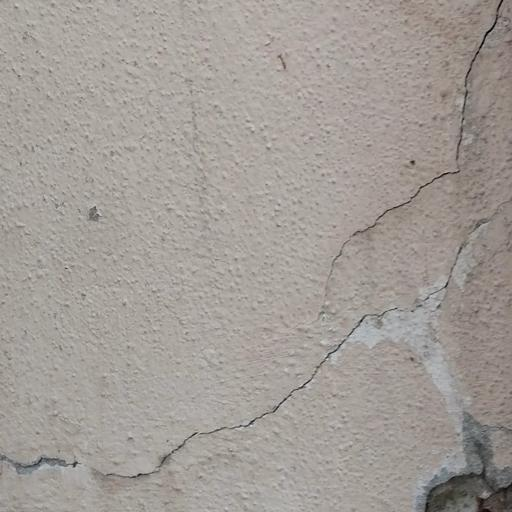major_crack: (1, 3, 509, 512)
